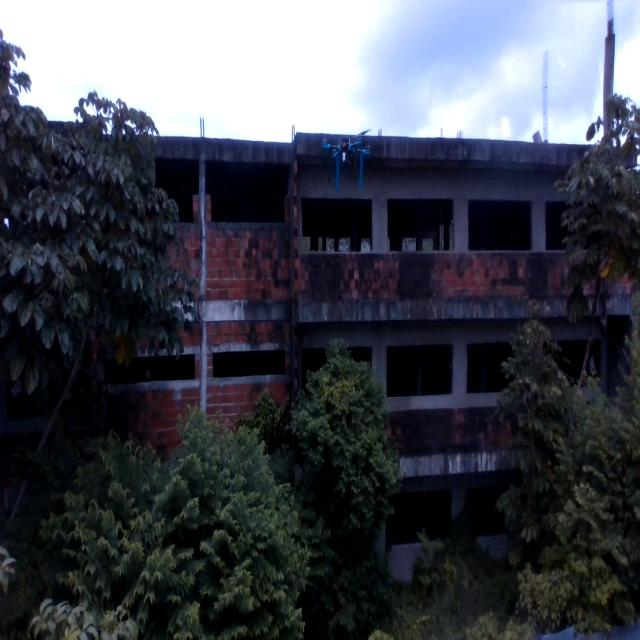-uav-: (316, 110, 380, 192)
